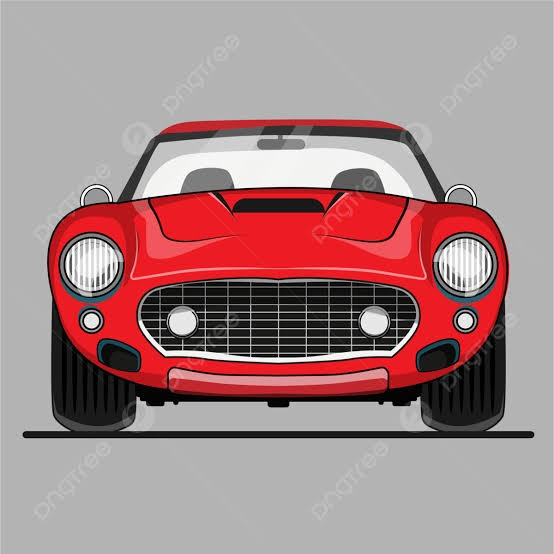car: (37, 124, 516, 420), (25, 123, 512, 402), (38, 129, 508, 394)
